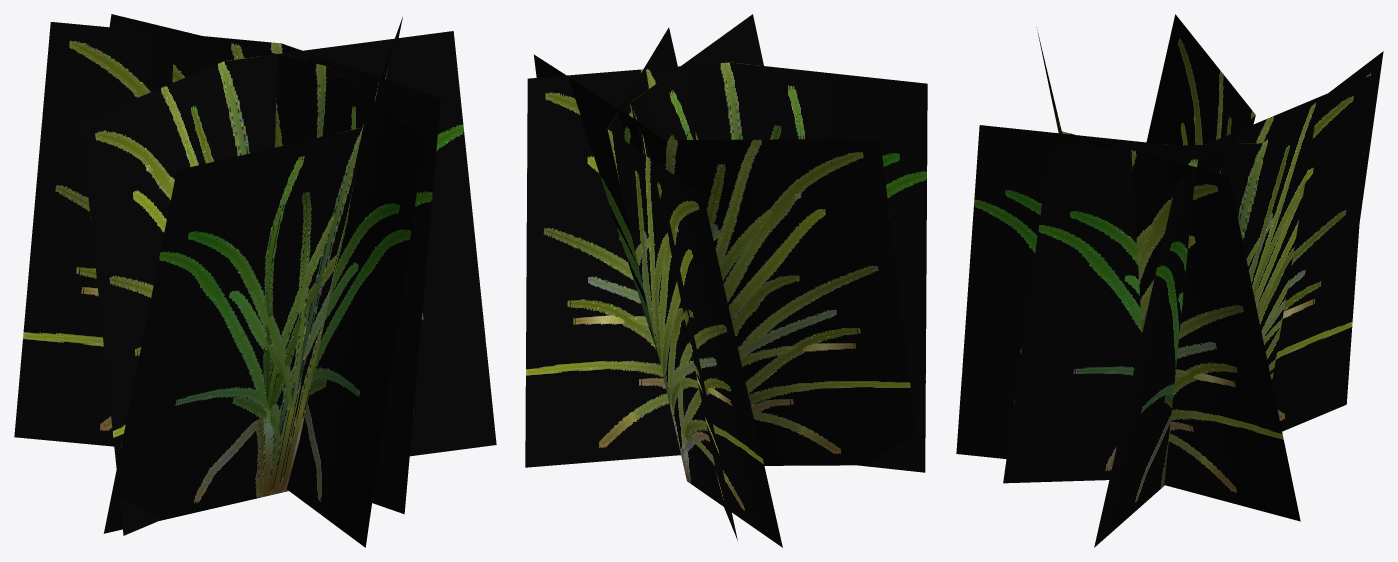
Rendered from beach-grass.glb.
The picture shows the model from 3 angles, left to right: view 1: azimuth 30°, elevation 25°; view 2: azimuth 150°, elevation 25°; view 3: azimuth 270°, elevation 25°; orthographic projection. The views are drawn at different scales.
Visible parts, largest first — view 1: node-BeachGrassOne200; view 2: node-BeachGrassOne200; view 3: node-BeachGrassOne200.
Boxes of the visible parts, x1,y1,x2,y2 form: node-BeachGrassOne200: (14, 14, 496, 547); node-BeachGrassOne200: (525, 14, 927, 547); node-BeachGrassOne200: (956, 14, 1383, 547).
Bounding box in the file's own units: 0.2585 × 0.255 × 0.2622.
Materials: 1 (1 with a texture image).
